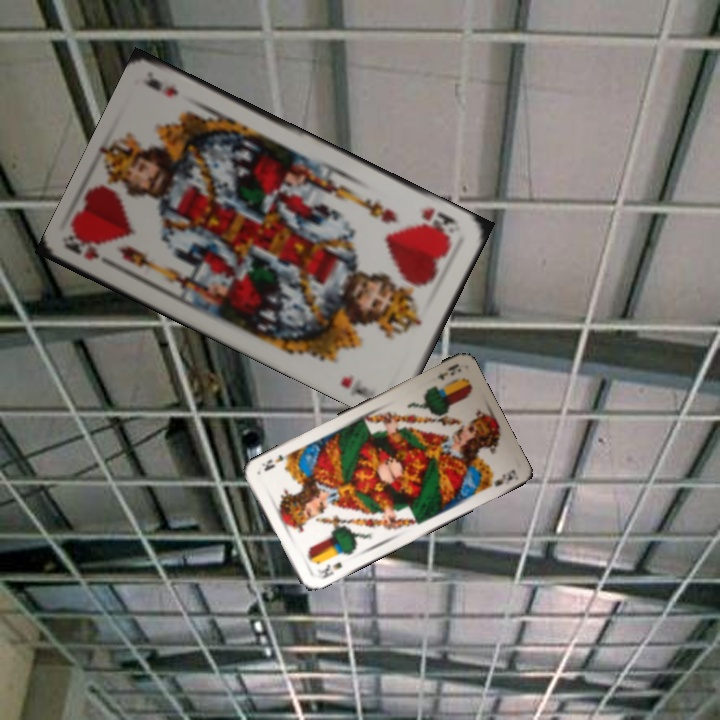EK: (312, 558, 345, 582), (433, 360, 463, 383)
HK: (64, 233, 120, 273), (417, 204, 463, 240)
